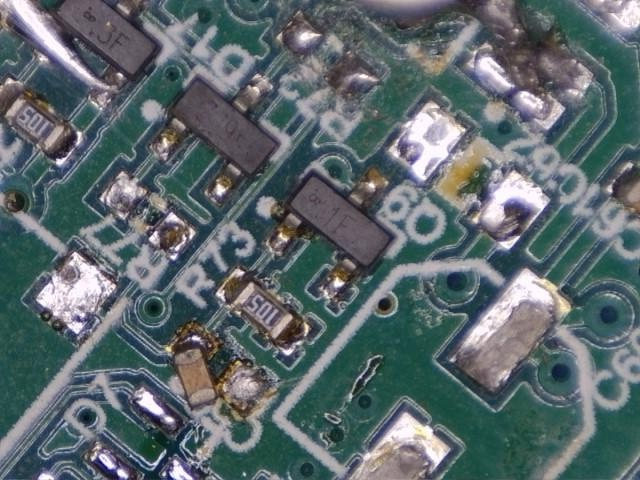pcb_defect: (457, 0, 582, 121), (0, 0, 128, 108), (165, 319, 272, 418)
